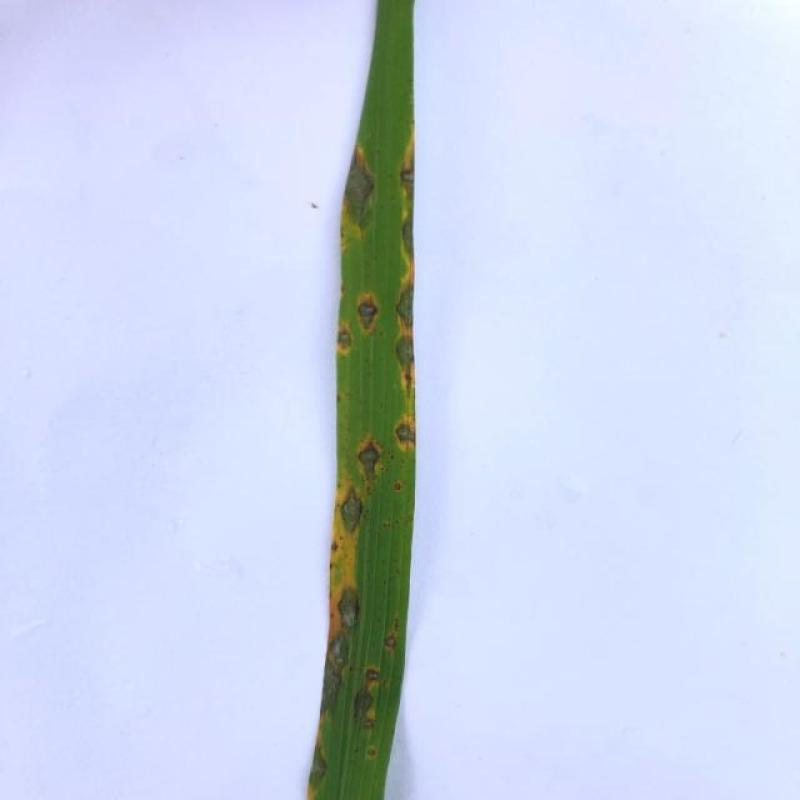Leaf_Blast: (334, 145, 384, 220), (347, 686, 385, 774), (369, 344, 461, 378), (391, 154, 454, 198), (378, 285, 438, 329), (371, 221, 434, 260), (347, 278, 384, 328), (308, 663, 352, 705), (330, 580, 366, 631), (328, 495, 372, 536), (349, 430, 386, 475), (299, 759, 350, 790), (370, 606, 402, 655), (386, 411, 419, 450), (331, 316, 360, 355), (350, 656, 382, 690), (384, 468, 408, 496)
